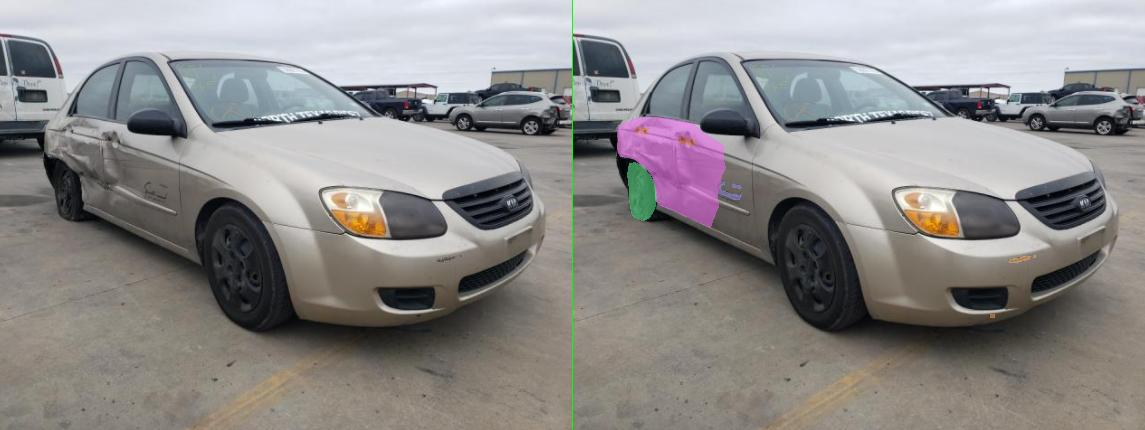Broken part: (108, 162, 166, 220)
Dent: (88, 117, 304, 227)
Missing part: (210, 136, 244, 146), (124, 127, 150, 134)
Paint chip: (873, 256, 915, 262), (835, 314, 843, 317), (921, 255, 925, 257)
Scratch: (288, 182, 336, 199), (318, 183, 336, 188)
